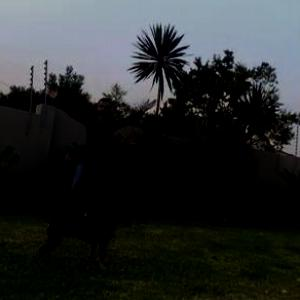takeoff: (62, 88, 172, 216)
